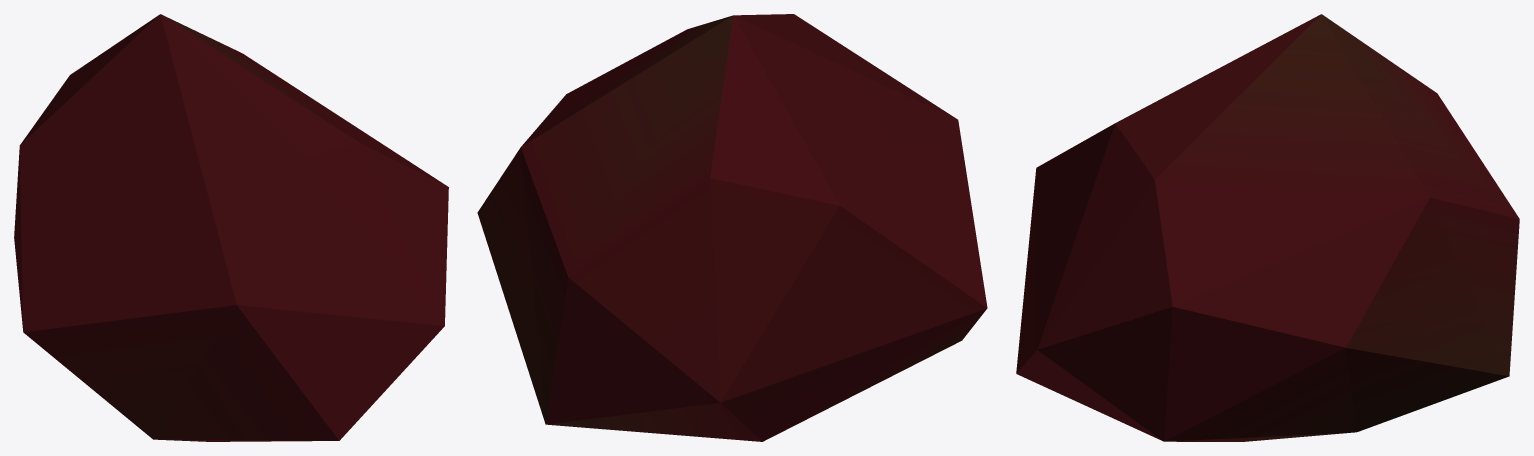
Rendered from rock.fbx.
The picture shows the model from 3 angles, left to right: view 1: azimuth 30°, elevation 25°; view 2: azimuth 150°, elevation 25°; view 3: azimuth 270°, elevation 25°; orthographic projection. The views are drawn at different scales.
Visible parts, largest first — view 1: Cube; view 2: Cube; view 3: Cube.
Part boxes in pixels (box(x1,y1,x2,y2)): Cube: box(14, 14, 448, 441); Cube: box(477, 14, 987, 441); Cube: box(1016, 14, 1519, 441).
Bounding box in the file's own units: 258 × 250 × 271.
